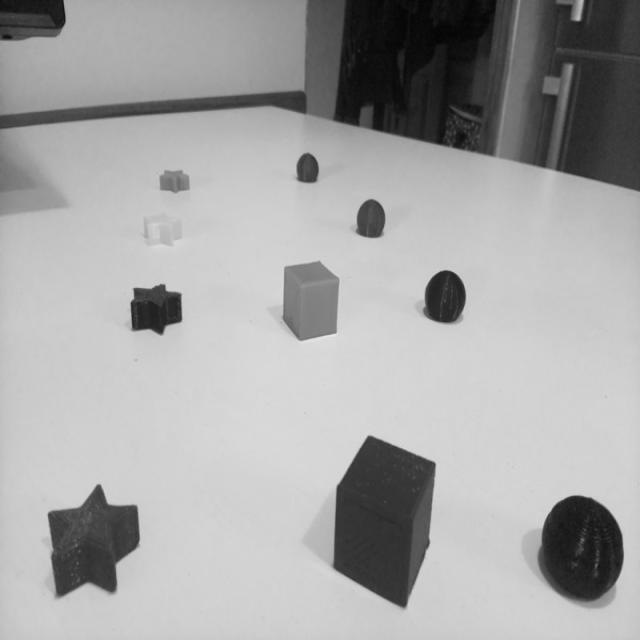ball: (540, 493, 628, 608), (424, 268, 468, 332), (354, 196, 389, 242), (294, 149, 323, 188)
cube: (328, 430, 441, 614), (278, 253, 342, 346)
star: (42, 482, 143, 603), (127, 278, 184, 342), (140, 211, 187, 253), (158, 165, 193, 200)
